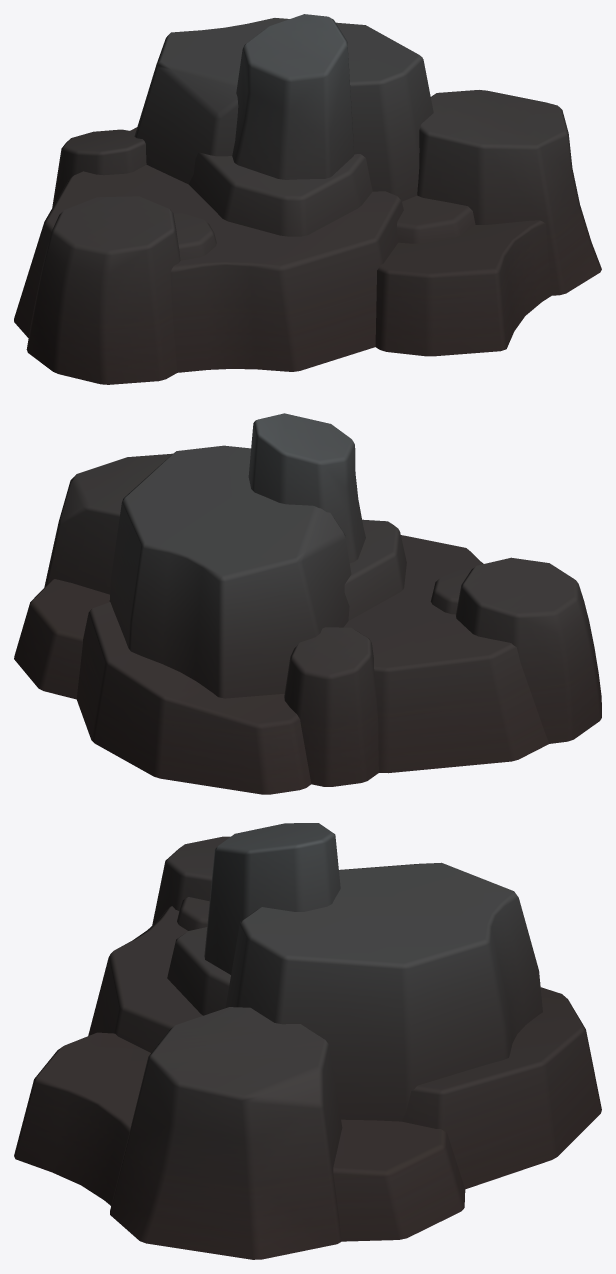
The model's file is Cliff_003.glb.
3 views of the same model, one above another, from view 1: azimuth 30°, elevation 25°; view 2: azimuth 150°, elevation 25°; view 3: azimuth 270°, elevation 25° (orthographic). The views are drawn at different scales.
Parts seen in each view (by area): view 1: Cliff_003; view 2: Cliff_003; view 3: Cliff_003.
Boxes of the visible parts, box(x1,y1,x2,y2) form: Cliff_003: box(14, 14, 601, 384); Cliff_003: box(14, 413, 601, 794); Cliff_003: box(14, 823, 601, 1259).
Size of the model in its own units: 270 by 120 by 223.
1 material, 1 textured.
